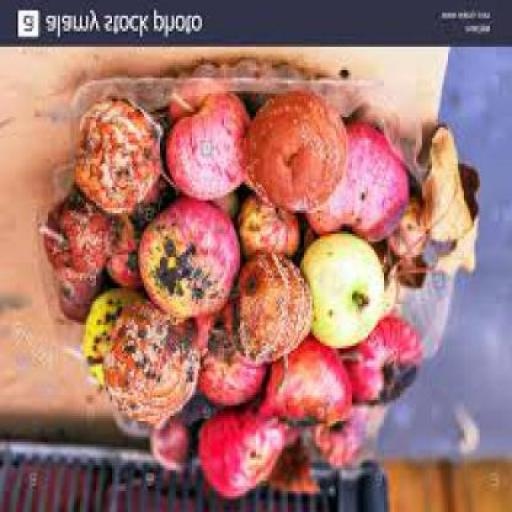biodegradable: (78, 288, 198, 438), (304, 122, 407, 250), (136, 200, 236, 322), (244, 102, 344, 216), (72, 104, 158, 221), (224, 257, 313, 369), (160, 91, 246, 203), (298, 236, 381, 351), (258, 343, 352, 437), (194, 413, 282, 504), (194, 314, 268, 413), (338, 325, 418, 411), (36, 194, 116, 280), (414, 125, 470, 247), (428, 161, 476, 278), (234, 200, 298, 265), (306, 410, 368, 476), (266, 439, 314, 501), (50, 276, 100, 327), (148, 424, 196, 476), (388, 203, 426, 265), (104, 223, 138, 291), (378, 262, 424, 297), (172, 400, 210, 432), (418, 236, 452, 271)
